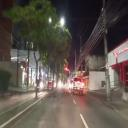NoEstacionar: (105, 62, 110, 70)
